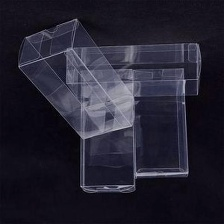plastic_box: (12, 13, 140, 144), (59, 37, 207, 104), (74, 64, 140, 199), (127, 63, 193, 183)
